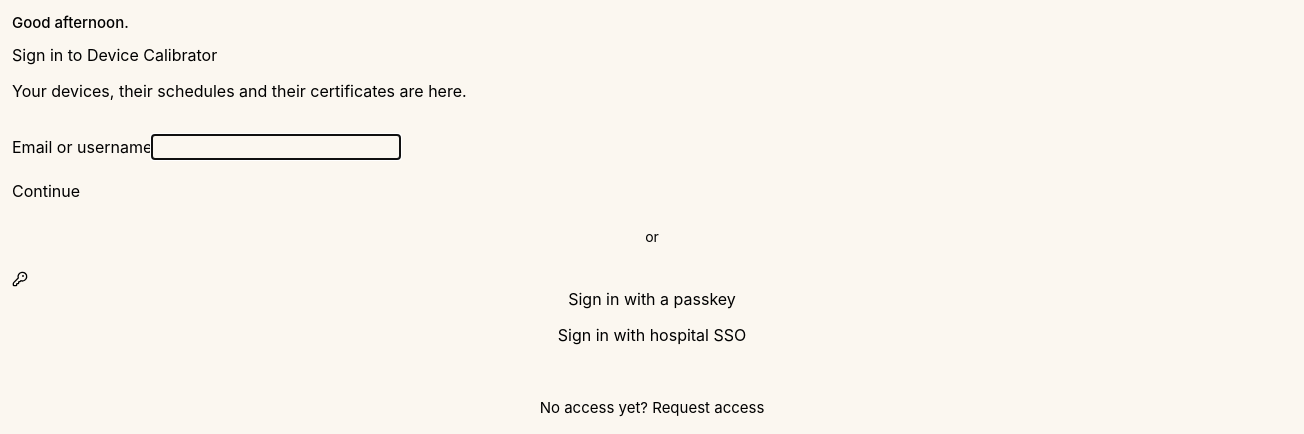
P10-04: identifier-first sign-in › a 401 answer shows the dictionary sentence, never the backend's text
This screenshot has width=1304, height=434.
Type "ada@rs.test" into the field labelled "Email or username". click: (276, 146)
box: [152, 134, 400, 158]
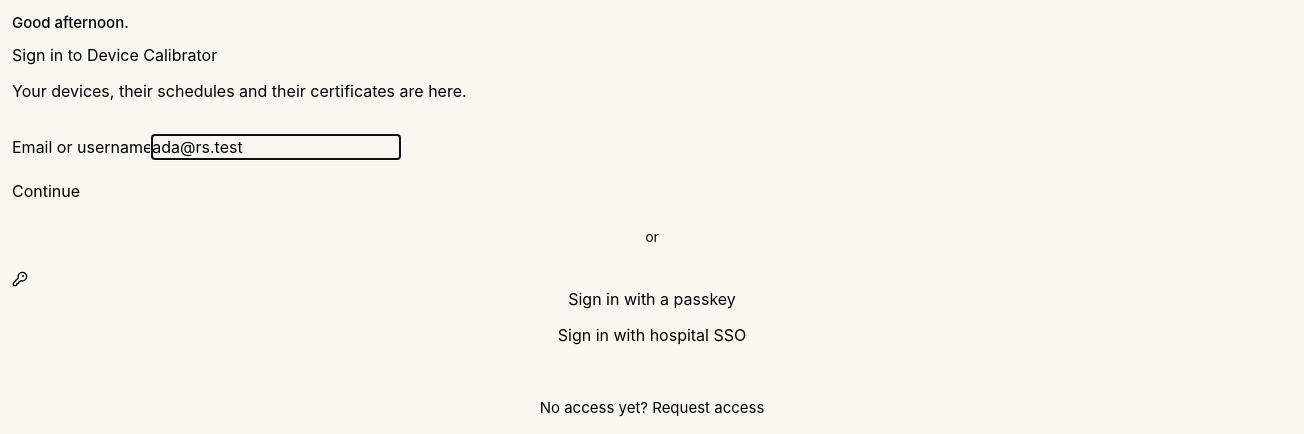
Click the button "Continue". click: (46, 190)
box: [12, 178, 80, 202]
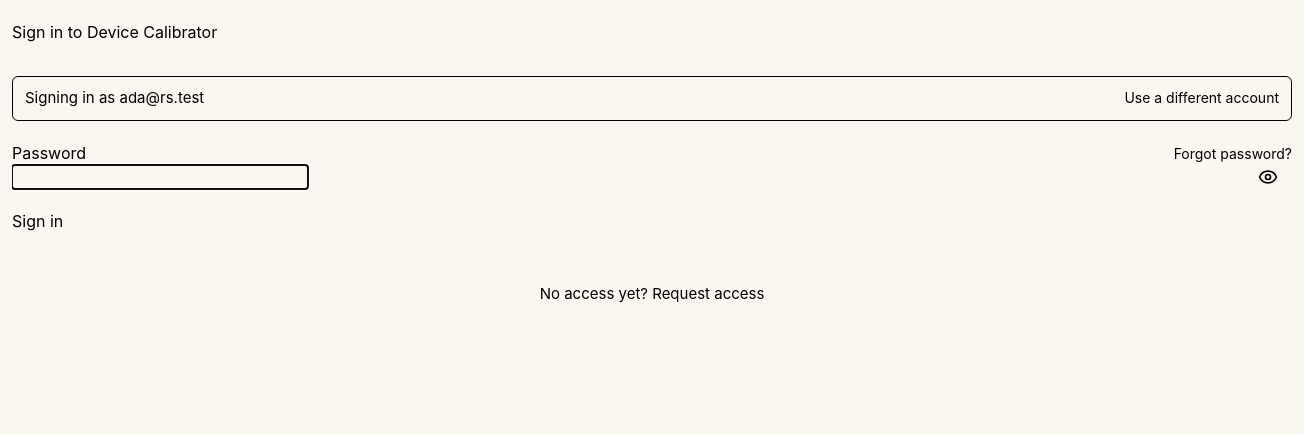
Type "wrong" into the password field labelled "Password". click: (160, 176)
box: [12, 164, 308, 188]
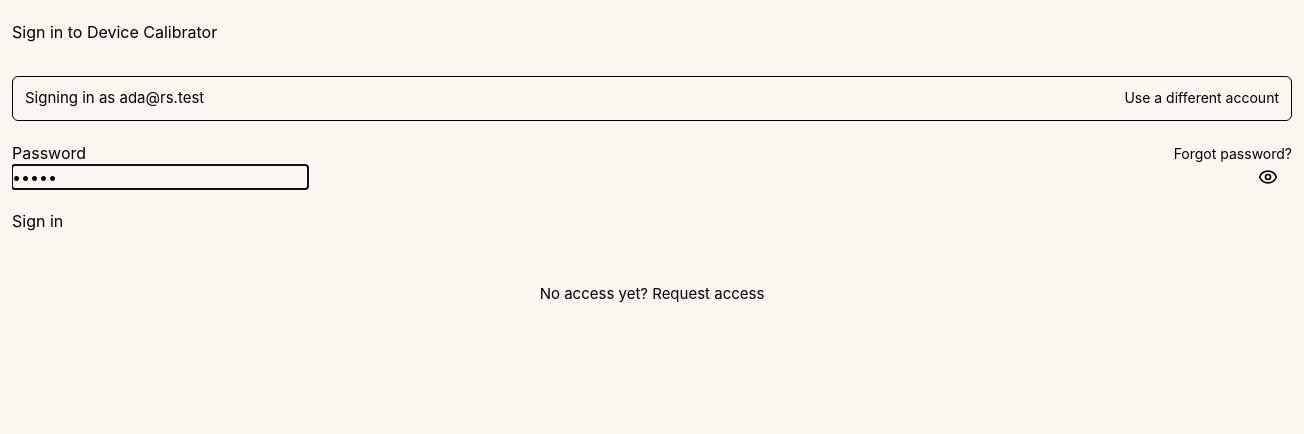
Click the button "Sign in". click: (38, 220)
box: [12, 208, 63, 232]
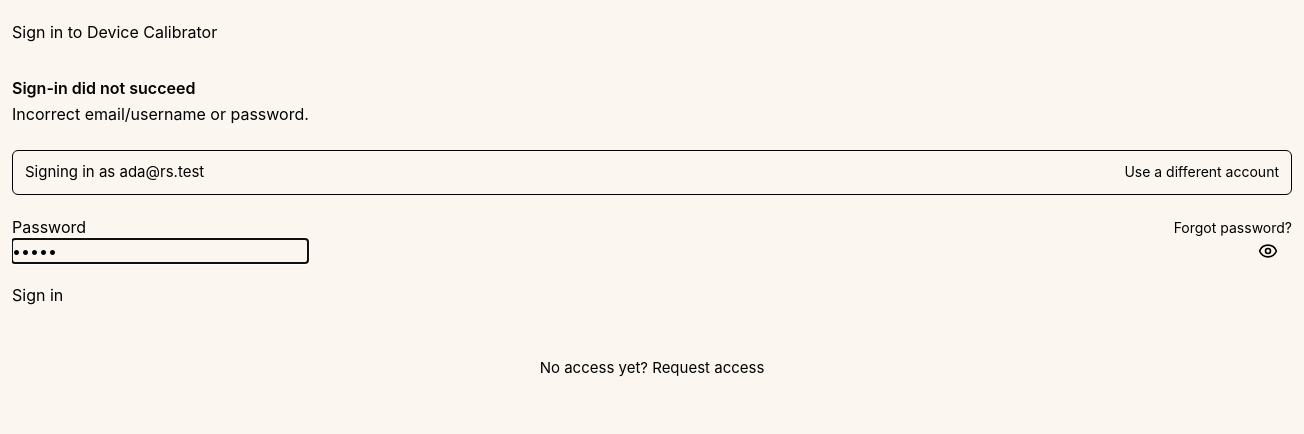
Expected: the message does not show "English backend text", [12, 78, 309, 124]
Expected: the message shows "Incorrect email/username or password.", [12, 104, 309, 124]
